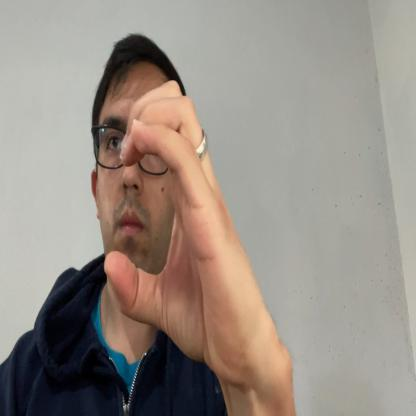C: (104, 80, 255, 376)
